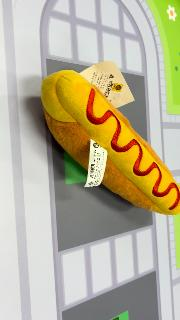hotdog: (41, 72, 180, 216)
